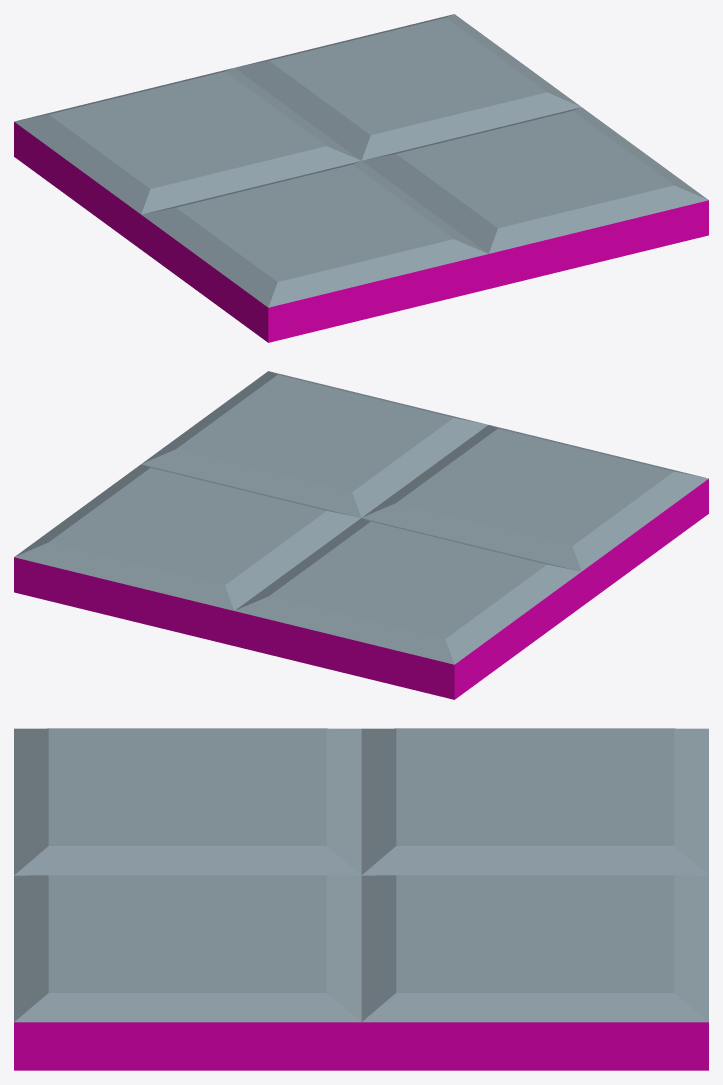
The model's file is floor1.gltf.
3 views of the same model, one above another, from view 1: azimuth 30°, elevation 25°; view 2: azimuth 150°, elevation 25°; view 3: azimuth 270°, elevation 25° (orthographic). The views are drawn at different scales.
Parts seen in each view (by area): view 1: Floor; view 2: Floor; view 3: Floor.
Part boxes in pixels (x1=…): Floor: x1=14, y1=14, x2=708, y2=342; Floor: x1=14, y1=371, x2=708, y2=699; Floor: x1=14, y1=728, x2=708, y2=1070.
Size of what is drawn, in the model's own units: 1 by 0.1 by 1.
